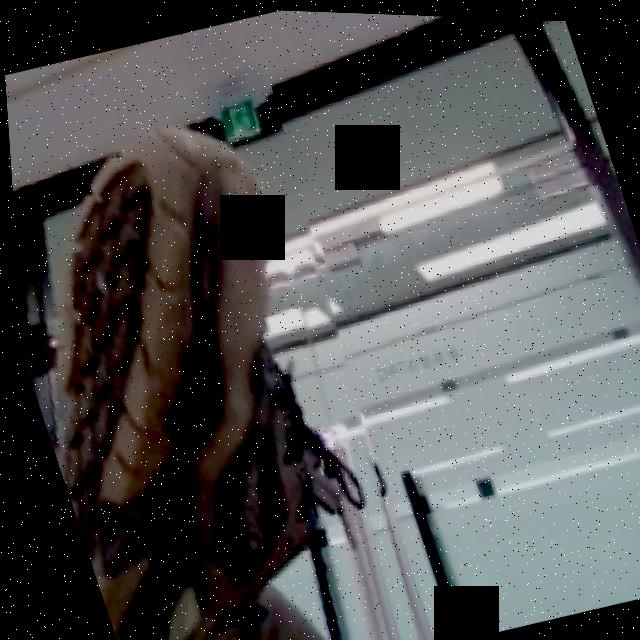shoe: (3, 60, 446, 640)
